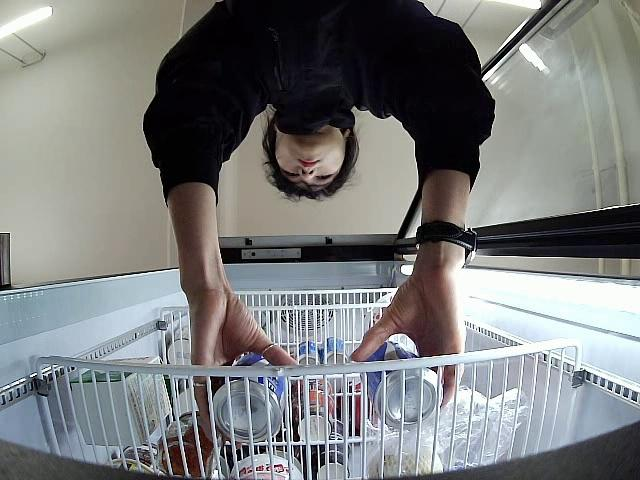00_hand: (189, 287, 299, 440), (349, 285, 467, 411)
13_pocariSweat: (361, 341, 445, 427), (212, 355, 285, 442)
